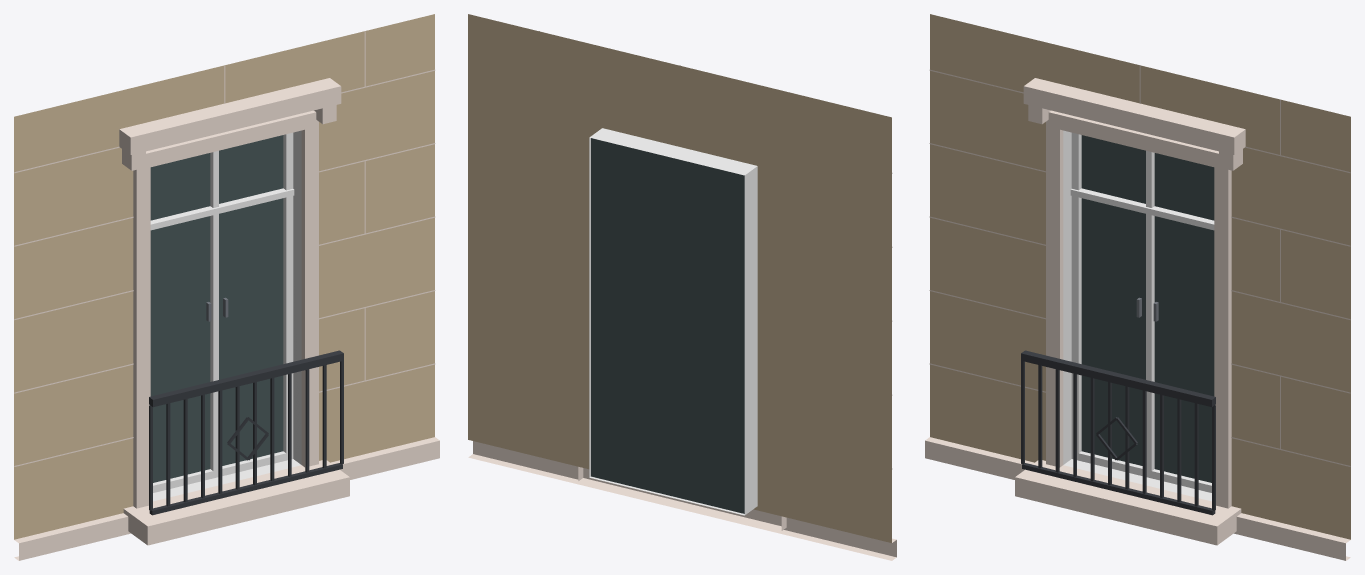
Rendered from mid-w1_close.fbx.
The picture shows the model from 3 angles, left to right: view 1: azimuth 30°, elevation 25°; view 2: azimuth 150°, elevation 25°; view 3: azimuth 330°, elevation 25°; orthographic projection.
Parts seen in each view (by area): view 1: a2006/500/mid-w1_close; view 2: a2006/500/mid-w1_close; view 3: a2006/500/mid-w1_close.
Part boxes in pixels (bbox=[...]): a2006/500/mid-w1_close: bbox=[14, 14, 439, 560]; a2006/500/mid-w1_close: bbox=[468, 14, 896, 560]; a2006/500/mid-w1_close: bbox=[925, 14, 1350, 560].
Bounding box in the file's own units: 3 × 3 × 0.46.
